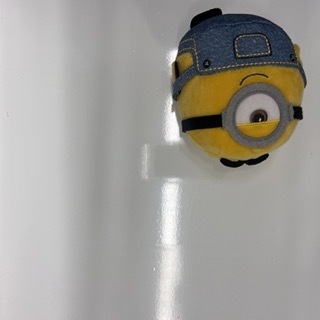minion: (171, 8, 306, 170)
